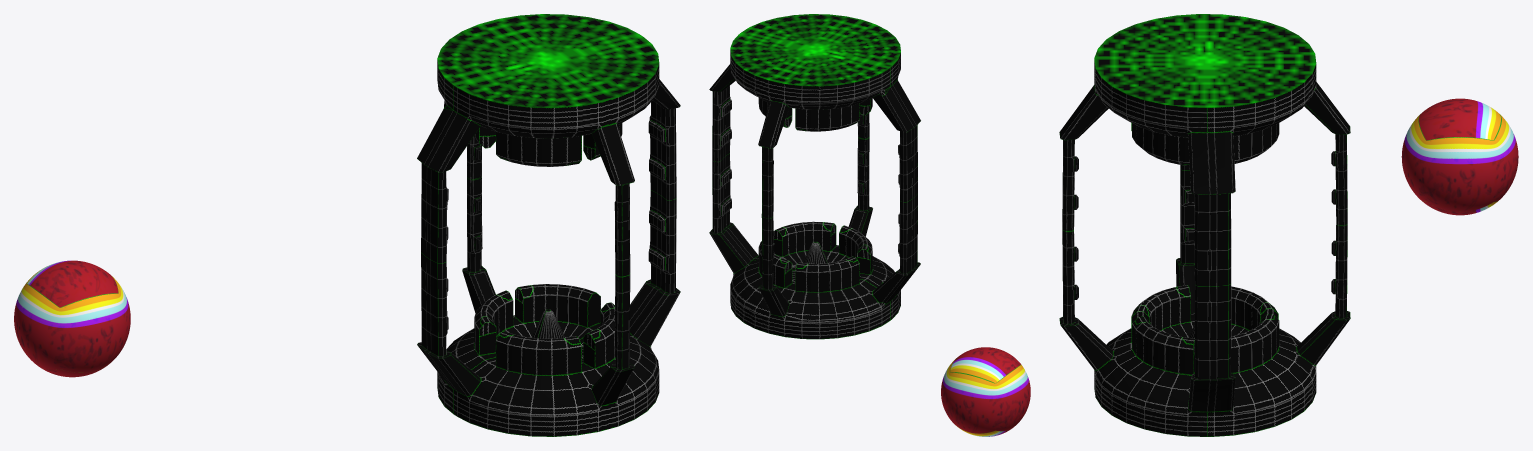
The model's file is Creature Container.FBX.
3 views of the same model, side by side, from view 1: azimuth 30°, elevation 25°; view 2: azimuth 150°, elevation 25°; view 3: azimuth 270°, elevation 25° (orthographic). The views are drawn at different scales.
Parts seen in each view (by area): view 1: Cylinder001, Box001; view 2: Cylinder001, Box001; view 3: Cylinder001, Box001.
Boxes of the visible parts, left/top/right/bottom form: Cylinder001: left=417, top=14, right=680, bottom=436; Box001: left=14, top=260, right=130, bottom=377; Cylinder001: left=709, top=14, right=920, bottom=339; Box001: left=941, top=347, right=1030, bottom=436; Cylinder001: left=1059, top=14, right=1350, bottom=436; Box001: left=1401, top=98, right=1518, bottom=215.
Size of the model in its own units: 172 by 103 by 130.
